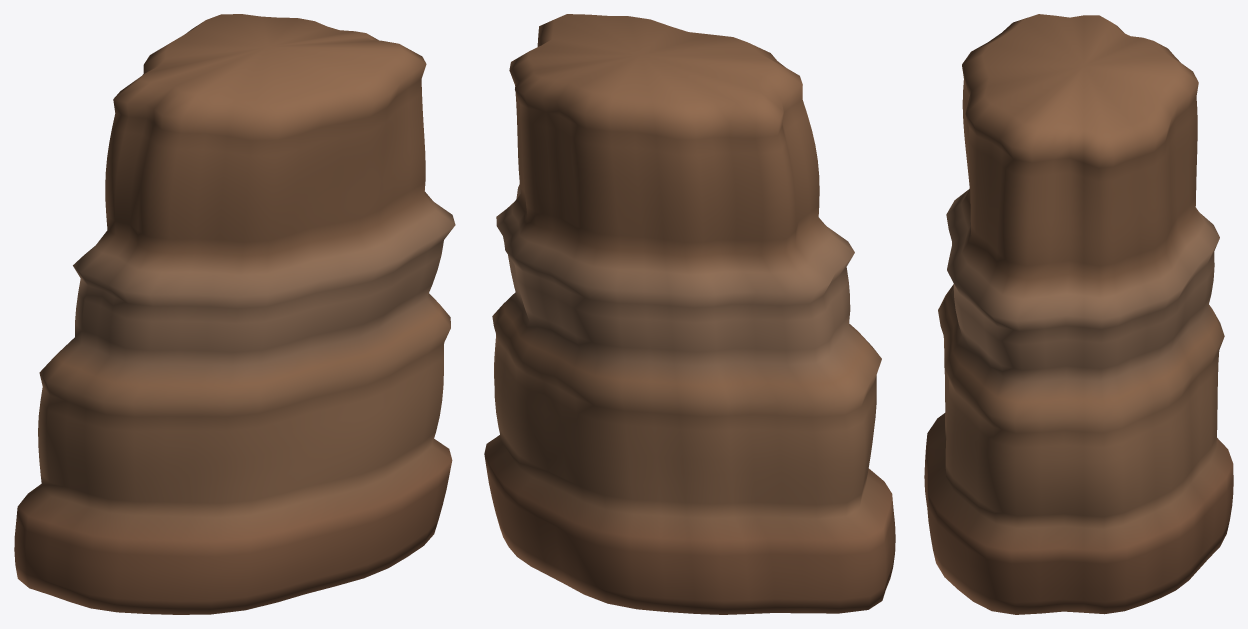
Rendered from redstone-0.glb.
3 renders of one model, left to right at view 1: azimuth 30°, elevation 25°; view 2: azimuth 150°, elevation 25°; view 3: azimuth 270°, elevation 25°, orthographic.
Parts seen in each view (by area): view 1: redstone_0; view 2: redstone_0; view 3: redstone_0.
Part boxes in pixels (x1,y1,x2,y2): redstone_0: [14, 14, 455, 614]; redstone_0: [484, 14, 895, 614]; redstone_0: [924, 14, 1233, 614].
Bounding box in the file's own units: 5.22 × 6.13 × 3.53.
